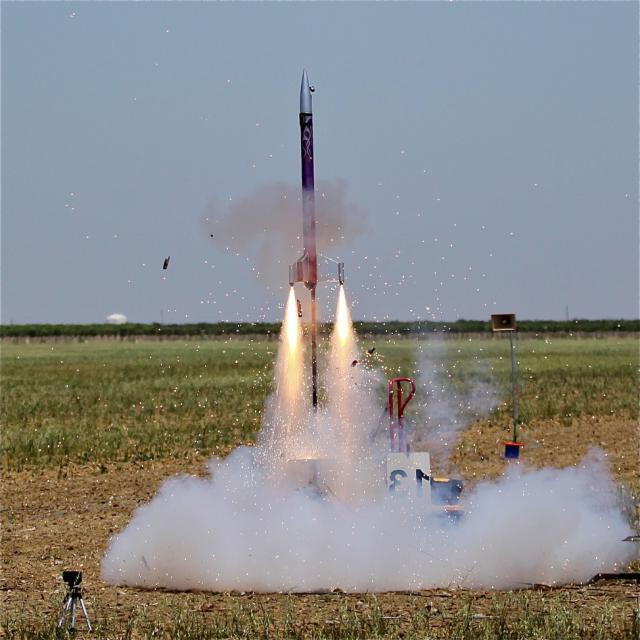missile: (290, 69, 350, 290)
